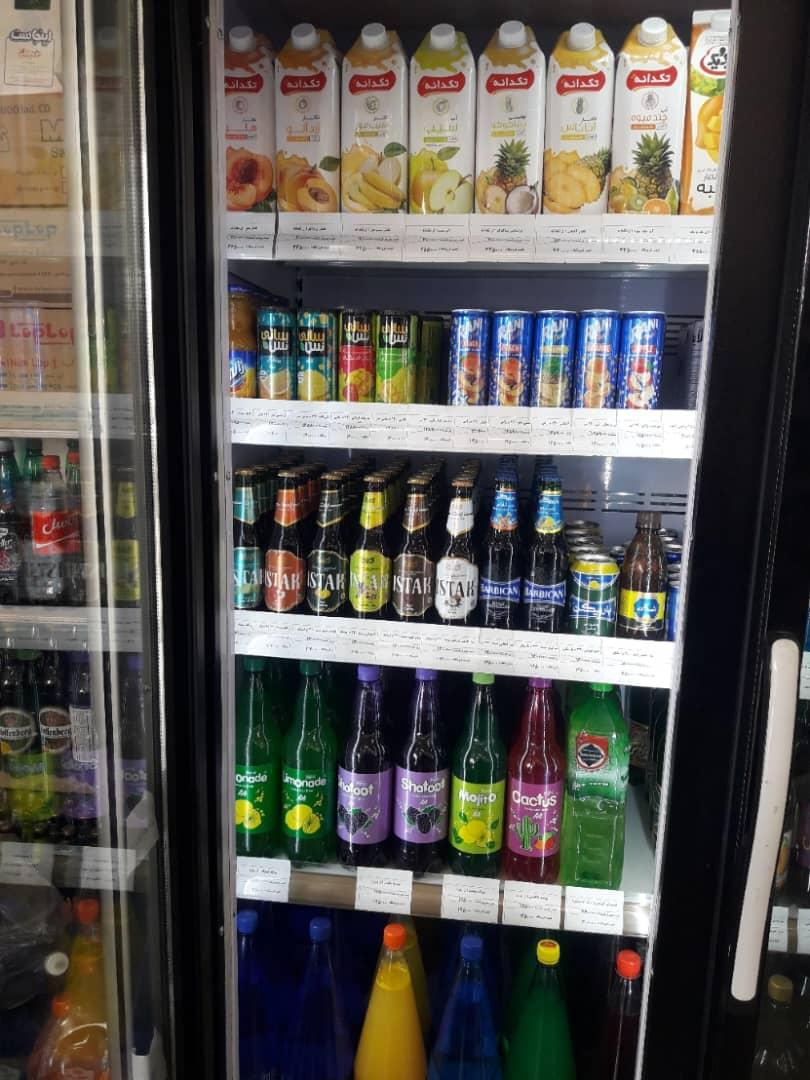Apple: (624, 311, 668, 418)
Peach: (498, 313, 531, 410), (453, 311, 487, 405)
Pineapple: (538, 316, 573, 416)
